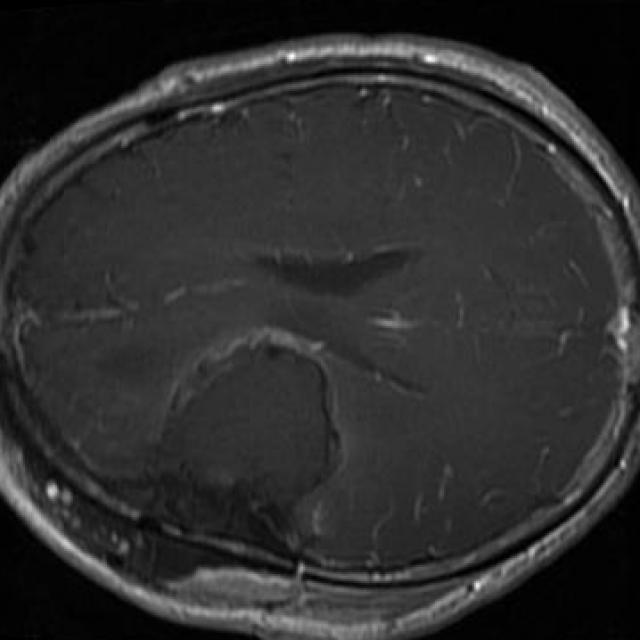glioma: (107, 328, 341, 567)
